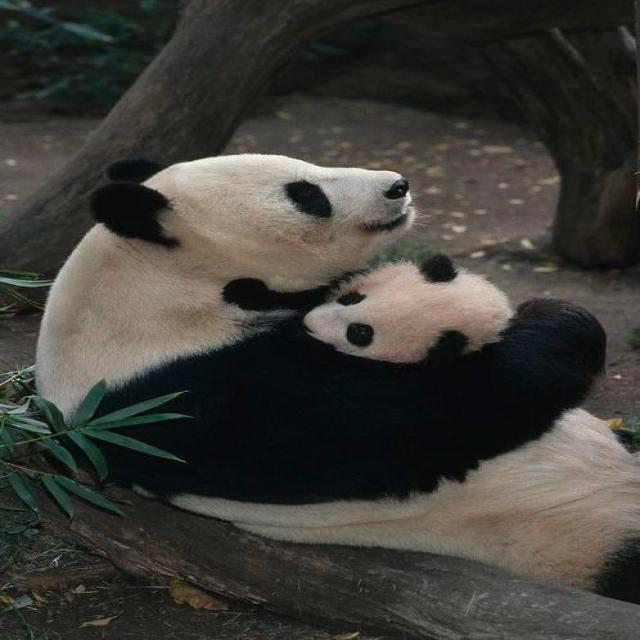panda: (18, 150, 640, 608)
